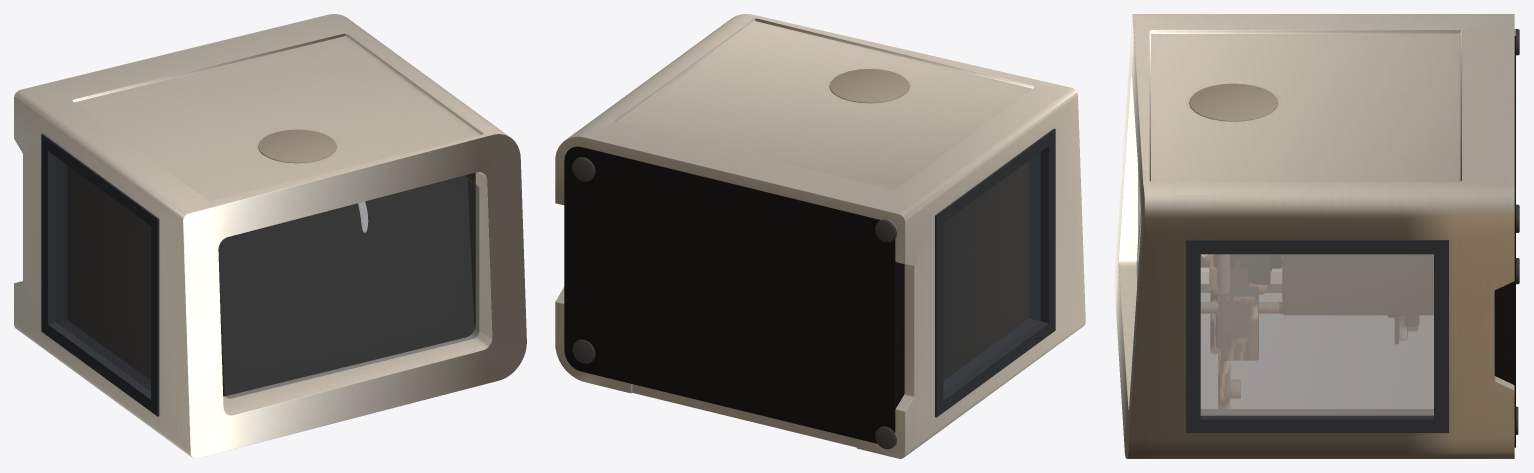
The model's file is deltrol_p2s_explorer_v23.glb.
3 renders of one model, left to right at view 1: azimuth 30°, elevation 25°; view 2: azimuth 150°, elevation 25°; view 3: azimuth 270°, elevation 25°, orthographic. The views are drawn at different scales.
Visible parts, largest first — view 1: unibody_shell, top_roof_glass, interior_ceiling_liner, left_glass_window, interior_left_back_baffle, left_window_gasket, rear_exhaust_shroud; view 2: unibody_shell, chassis_recessed_plinth, left_glass_window, interior_left_back_baffle, left_window_gasket, rear_exhaust_shroud; view 3: unibody_shell, right_glass_sheen, right_glass_window, right_window_gasket, interior_rear_electronics_box, x_gantry_crossbeam, chassis_recessed_plinth, rear_exhaust_shroud, x_guide_front, toolhead_chassis.
Part boxes in pixels (<box>): unibody_shell: <box>14,14,526,458</box>; top_roof_glass: <box>218,176,479,398</box>; interior_ceiling_liner: <box>218,172,475,396</box>; left_glass_window: <box>56,157,150,391</box>; interior_left_back_baffle: <box>67,165,150,380</box>; left_window_gasket: <box>41,133,159,416</box>; rear_exhaust_shroud: <box>258,129,336,163</box>; unibody_shell: <box>555,14,1085,458</box>; chassis_recessed_plinth: <box>564,146,904,443</box>; left_glass_window: <box>943,152,1040,391</box>; interior_left_back_baffle: <box>943,161,1028,380</box>; left_window_gasket: <box>935,128,1055,417</box>; rear_exhaust_shroud: <box>829,69,909,103</box>; unibody_shell: <box>1114,14,1514,458</box>; right_glass_sheen: <box>1201,254,1433,415</box>; right_glass_window: <box>1201,254,1433,414</box>; right_window_gasket: <box>1186,240,1448,432</box>; interior_rear_electronics_box: <box>1201,254,1433,314</box>; x_gantry_crossbeam: <box>1221,260,1258,360</box>; chassis_recessed_plinth: <box>1494,36,1515,447</box>; rear_exhaust_shroud: <box>1189,83,1277,121</box>; x_guide_front: <box>1201,254,1397,408</box>; toolhead_chassis: <box>1213,254,1270,284</box>.
Bounding box in the file's own units: 0.426 × 0.2955 × 0.3818.
18 materials, 14 textured.
